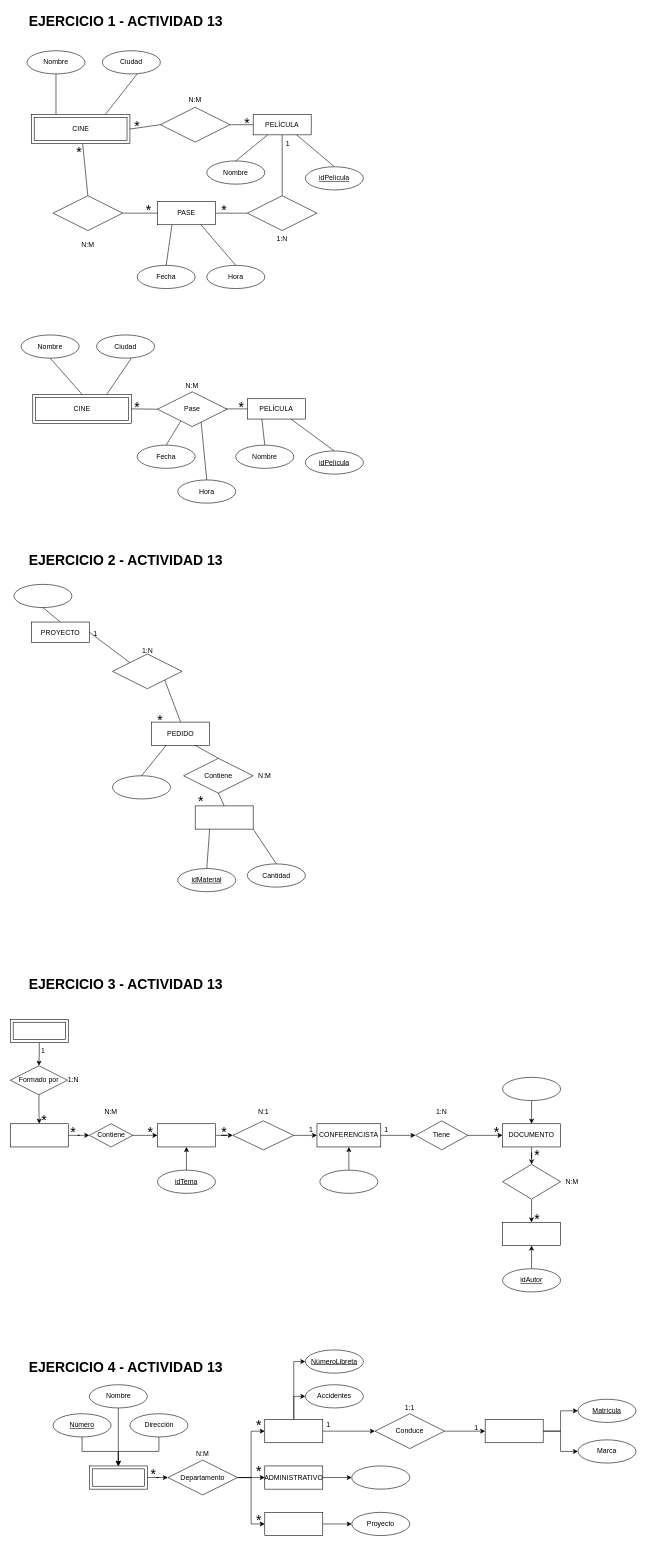
This 646x1546 diagram has some shape labels left out. The shapes that lost their labels are listed below. From the top down, each one's box as (x1, y1, x2, y2) in pixels, then its label:
(160, 107, 230, 142): PROYECTA
(52, 195, 123, 231): EXPIDE
(247, 195, 317, 231): ACCESO
(13, 584, 72, 608): idProyecto
(112, 653, 182, 689): Genera
(112, 775, 171, 799): idPedido
(195, 805, 253, 829): MATERIAL
(10, 1019, 68, 1043): CONVENCIÓN
(502, 1077, 561, 1101): idDocumento
(10, 1123, 68, 1147): CONFERENCIA
(157, 1123, 215, 1147): TEMA
(232, 1120, 294, 1150): Expuesto por
(319, 1170, 378, 1193): idConferencista
(502, 1164, 561, 1199): Realizado por
(502, 1222, 561, 1246): AUTOR
(264, 1419, 323, 1443): CHOFER
(485, 1419, 543, 1443): COCHE
(89, 1465, 147, 1489): FUNCIONARIO
(351, 1465, 410, 1489): Idioma
(264, 1512, 323, 1536): TÉCNICO
